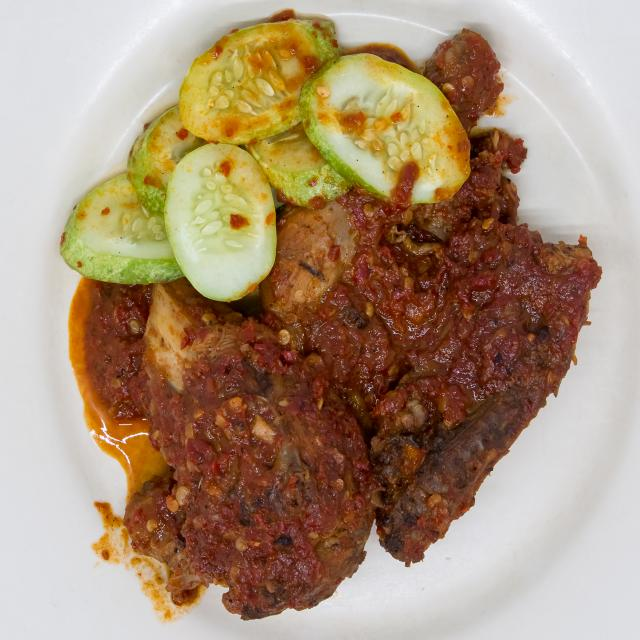Ayam-Bumbu-Rujak: (91, 7, 607, 625)
